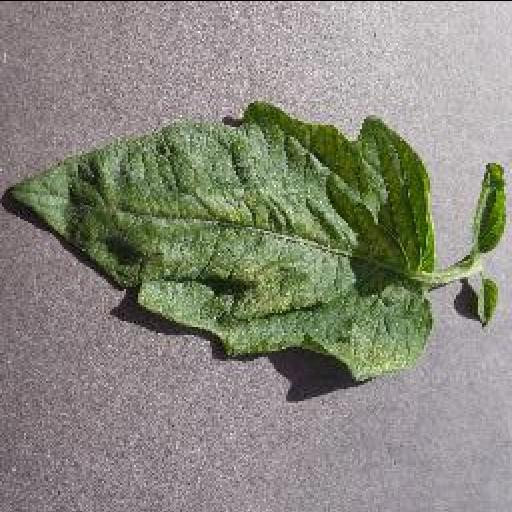disease_tomato: (11, 102, 433, 378)
